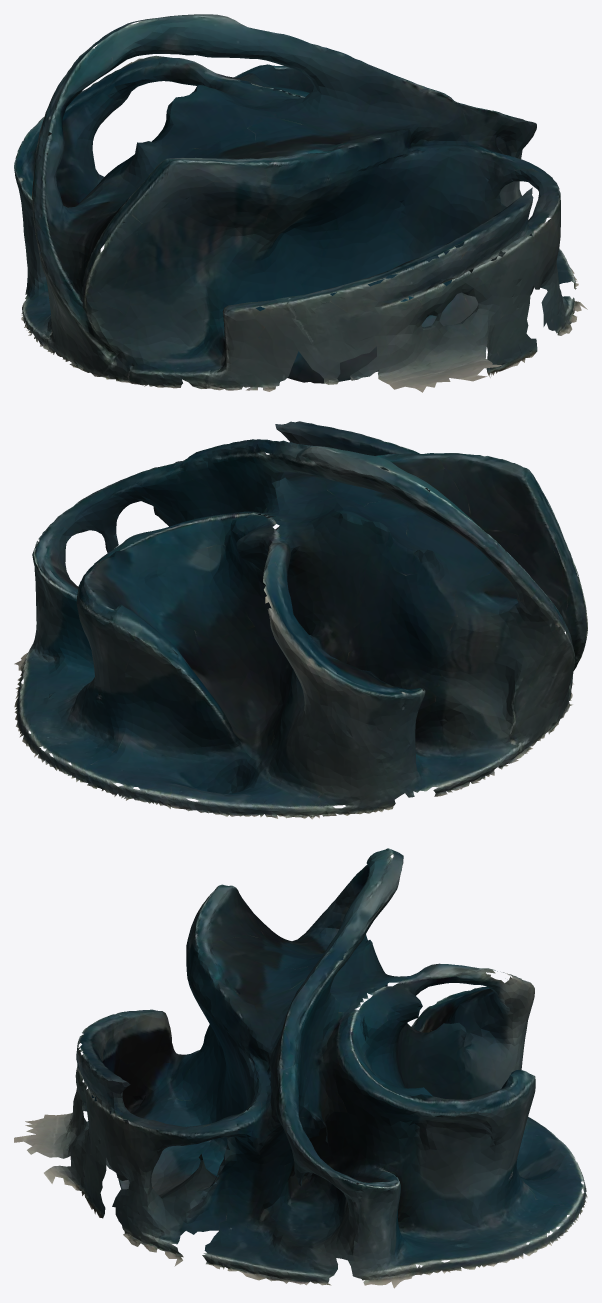
File: blue-waves.glb
The picture shows the model from 3 angles, top to bottom: view 1: azimuth 30°, elevation 25°; view 2: azimuth 150°, elevation 25°; view 3: azimuth 270°, elevation 25°; orthographic projection. The views are drawn at different scales.
Parts seen in each view (by area): view 1: geometry_0; view 2: geometry_0; view 3: geometry_0.
Boxes of the visible parts, <box> form: geometry_0: <box>14,14,587,392</box>; geometry_0: <box>14,421,587,819</box>; geometry_0: <box>14,848,587,1288</box>.
Bounding box in the file's own units: 0.2219 × 0.132 × 0.2336.
1 material, 1 textured.
